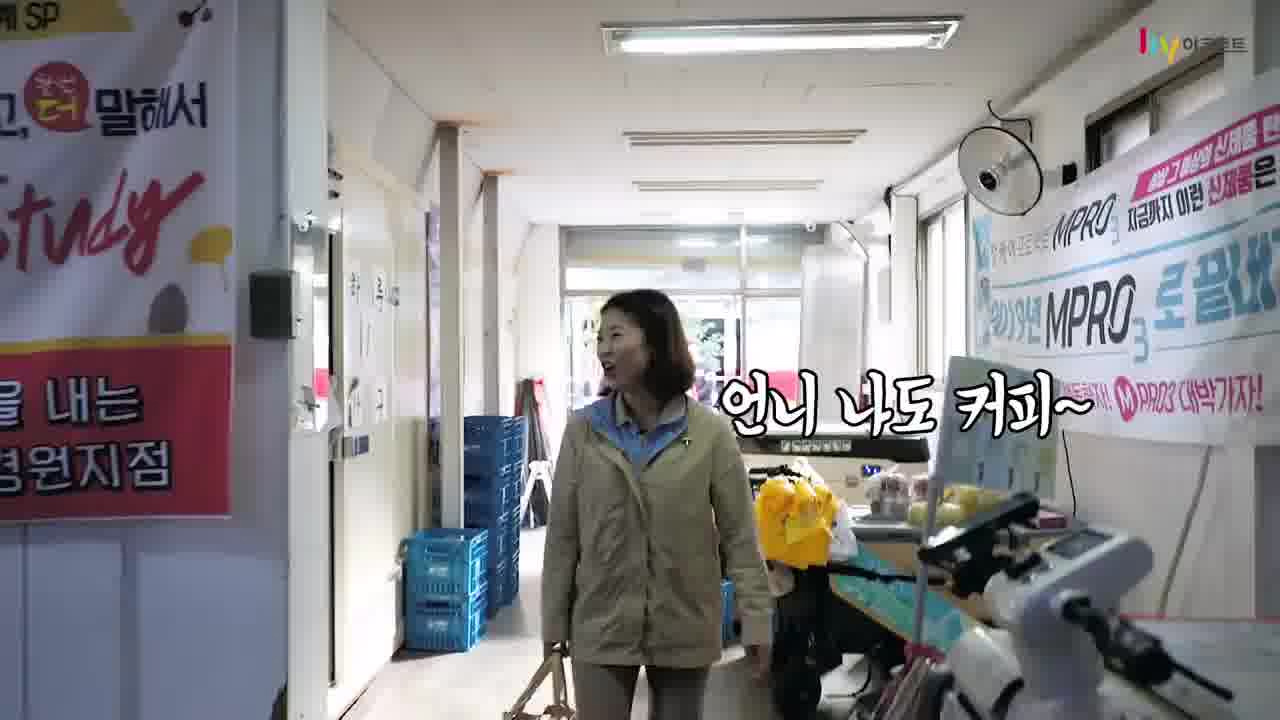Yakurut: (493, 286, 799, 720)
